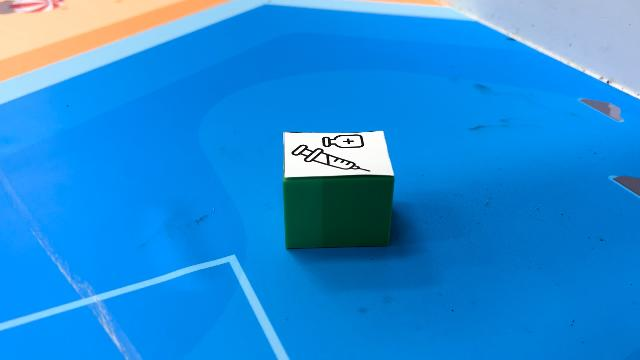syringe: (283, 131, 395, 250)
